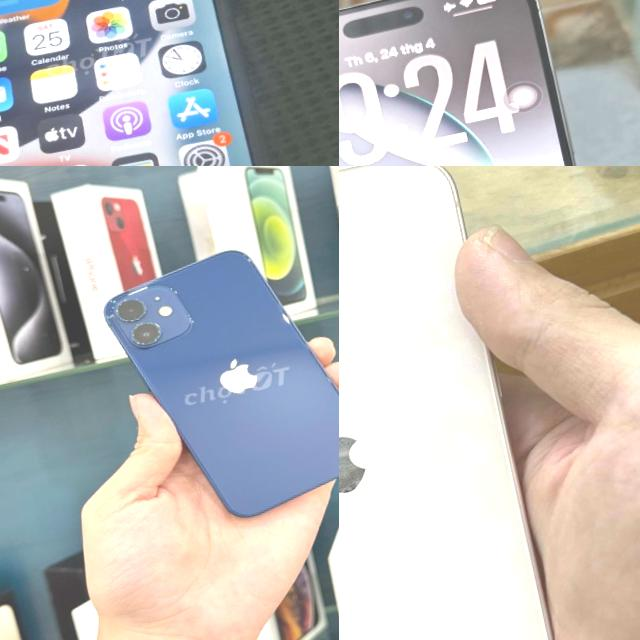gen_12_13: (339, 166, 598, 640), (91, 225, 339, 540)
gen_16: (339, 0, 573, 166)
gen_6: (0, 0, 316, 166)
